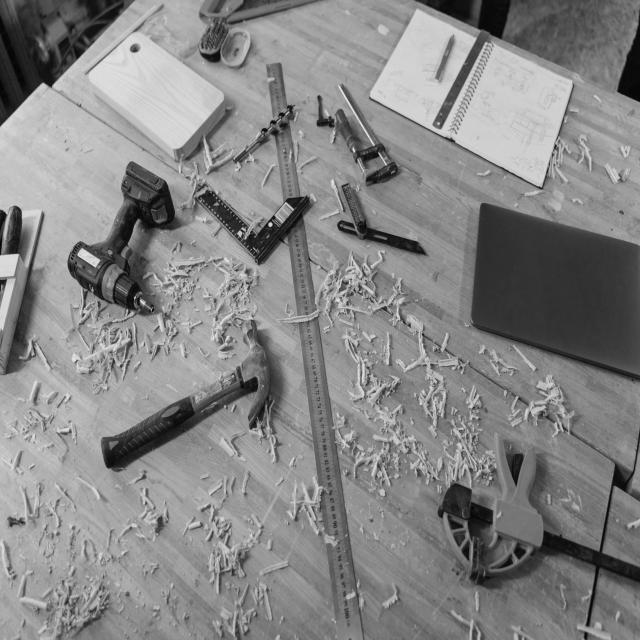angle_iron: (185, 165, 328, 277)
c_clamp: (309, 53, 420, 203)
corless_drill: (57, 135, 183, 326)
hammer: (79, 297, 288, 517)
pencil: (427, 26, 459, 88)
ruler: (253, 54, 373, 640), (427, 23, 499, 134)
screwdriver: (0, 195, 40, 365)
utility_knife: (324, 174, 447, 277)
